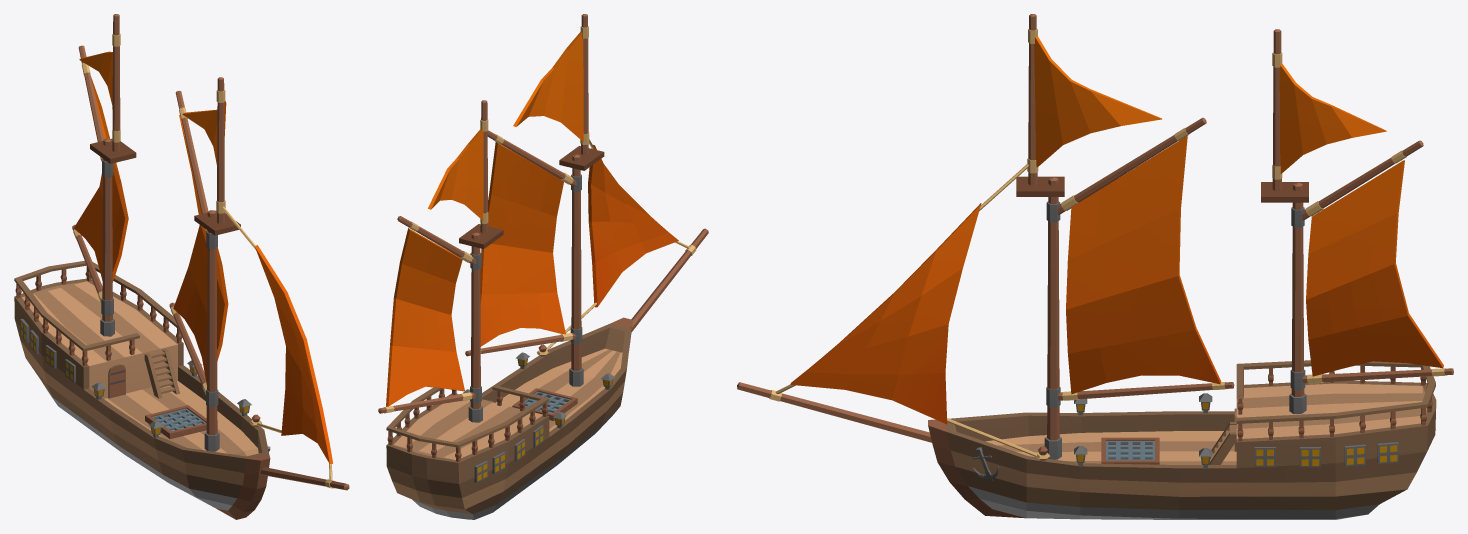
Rendered from ship-medium-2.glb.
3 renders of one model, left to right at view 1: azimuth 30°, elevation 25°; view 2: azimuth 150°, elevation 25°; view 3: azimuth 270°, elevation 25°, orthographic. The views are drawn at different scales.
Parts seen in each view (by area): view 1: ship medium 2; view 2: ship medium 2; view 3: ship medium 2.
Part boxes in pixels (<box>): ship medium 2: <box>14,14,349,519</box>; ship medium 2: <box>378,14,708,519</box>; ship medium 2: <box>737,14,1453,519</box>.
Size of the model in its own units: 7.2 by 27.95 by 36.22.
Materials: 1 (1 with a texture image).
